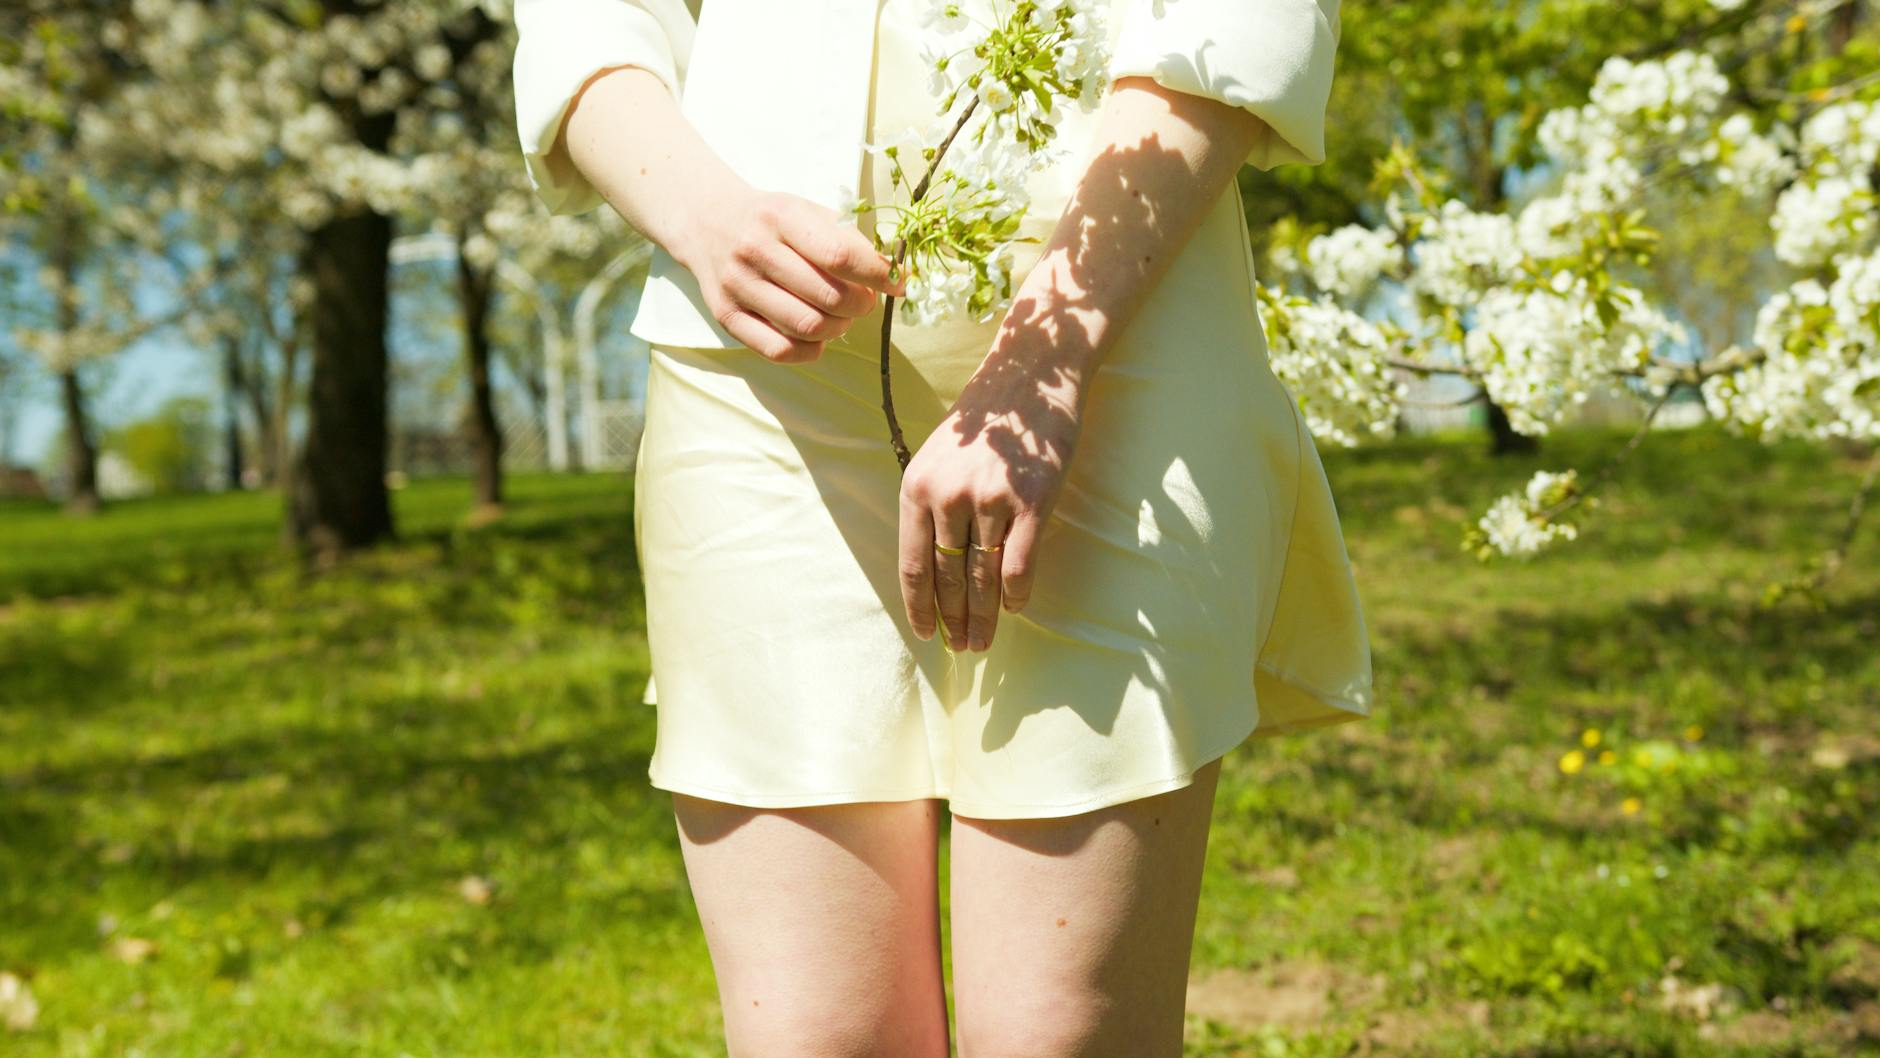short_medium_skirt: (602, 345, 1308, 833)
